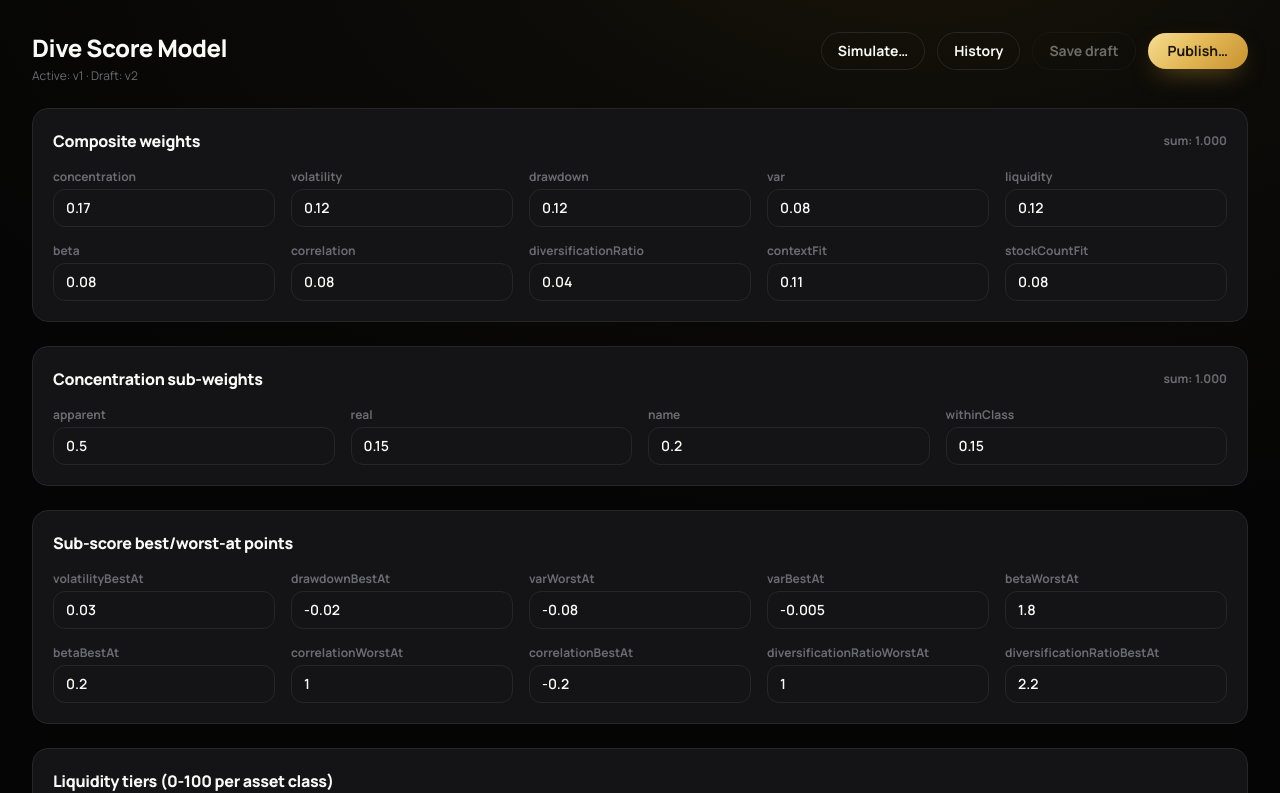
it: ScoringModel › toggling Simulate… opens the panel; Run calls runSimulation with the current payload
Later steps or results of the test are not shown.
Click the button with test id "admin-config-simulate-toggle-btn": (873, 51) top-left (821, 32), bottom-right (925, 70)
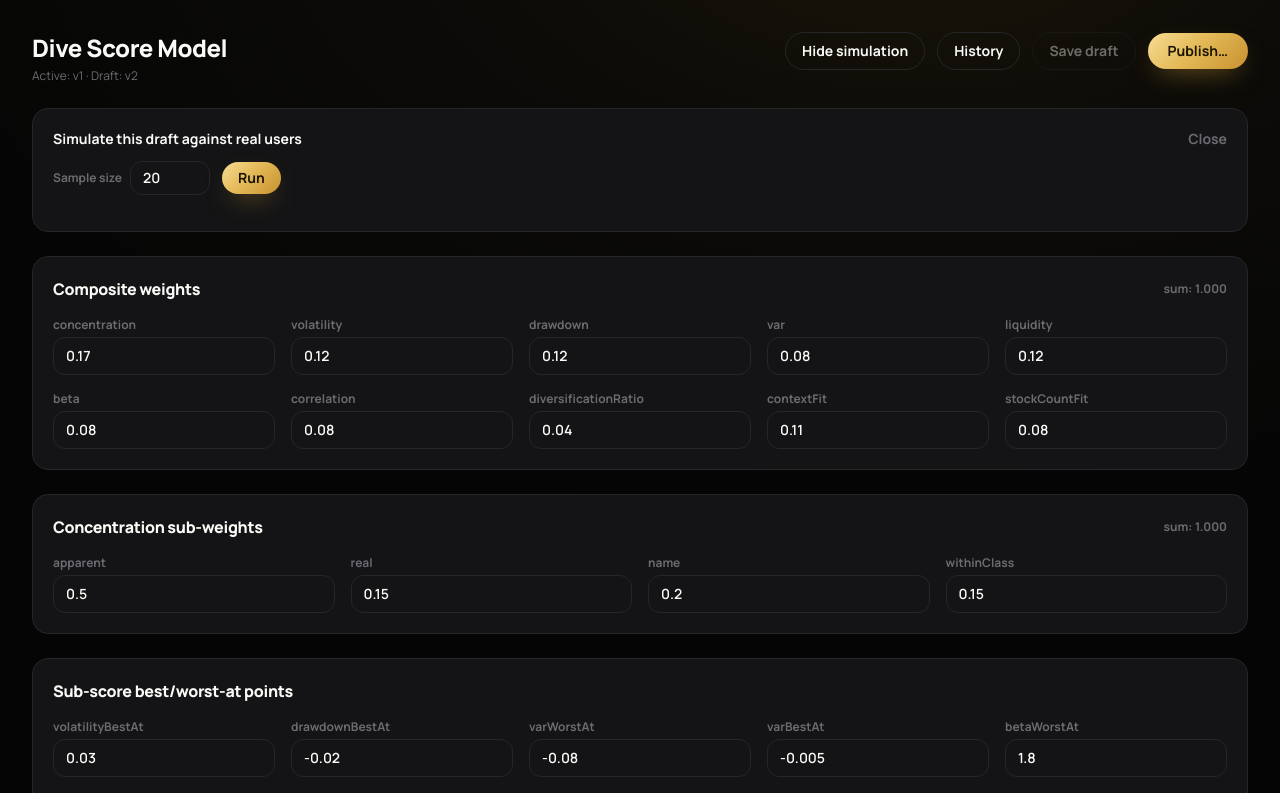
Check: the element with test id "admin-config-simulation-panel" is shown, box top-left (32, 108), bottom-right (1248, 232)
